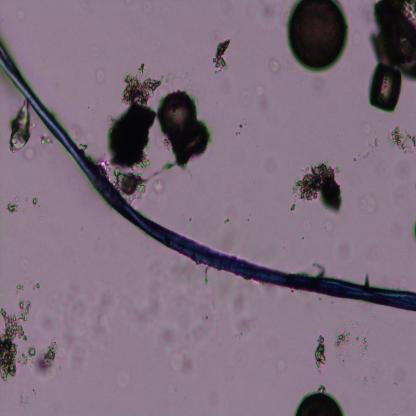Background material: (101, 63, 158, 174), (284, 156, 346, 221), (364, 1, 416, 74), (0, 297, 37, 388), (57, 292, 95, 368), (158, 325, 199, 378), (224, 289, 264, 337), (208, 25, 240, 78), (336, 322, 372, 366), (31, 335, 66, 380), (131, 295, 179, 327), (8, 97, 34, 156), (94, 282, 121, 336), (114, 168, 152, 198), (383, 129, 416, 152), (354, 139, 381, 165), (313, 333, 330, 374), (356, 191, 381, 218), (251, 78, 269, 110), (7, 194, 29, 217), (264, 352, 286, 374), (270, 51, 286, 78), (160, 157, 188, 170), (310, 258, 324, 276), (28, 191, 43, 207), (359, 372, 375, 386), (362, 119, 375, 136), (235, 119, 247, 137), (358, 272, 373, 286), (411, 216, 416, 244), (16, 282, 26, 293), (31, 280, 41, 291), (222, 216, 233, 224), (392, 377, 400, 388)
Cotton: (0, 39, 416, 314)
Diatom: (288, 0, 348, 75), (150, 87, 206, 158), (368, 59, 409, 111), (291, 387, 345, 416)
